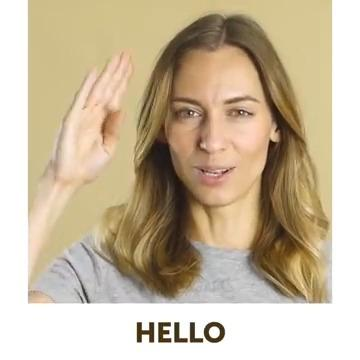Hello: (29, 35, 188, 217)
